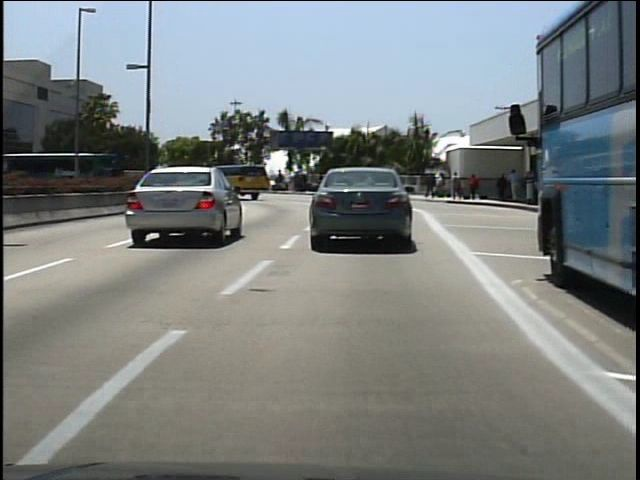person: (506, 166, 522, 203), (466, 169, 483, 203), (494, 170, 510, 203), (451, 169, 465, 201), (219, 168, 235, 193), (424, 172, 438, 200)
